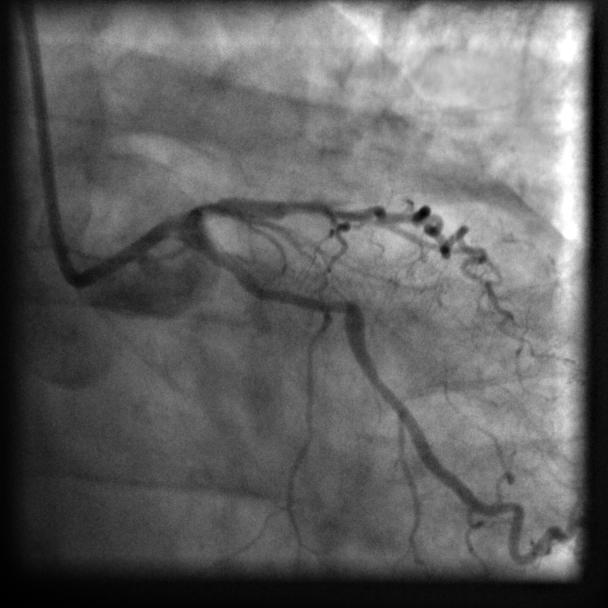Stenosis: (260, 278, 345, 324)
